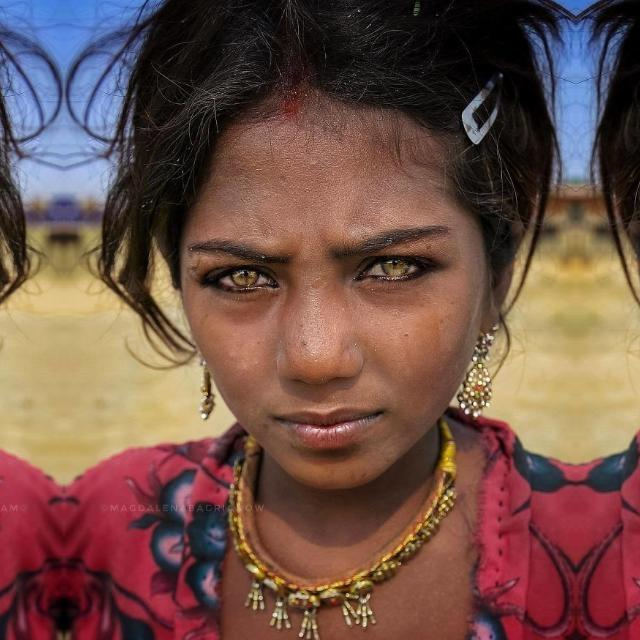person: (64, 0, 576, 640), (576, 0, 640, 640), (0, 0, 62, 640)
